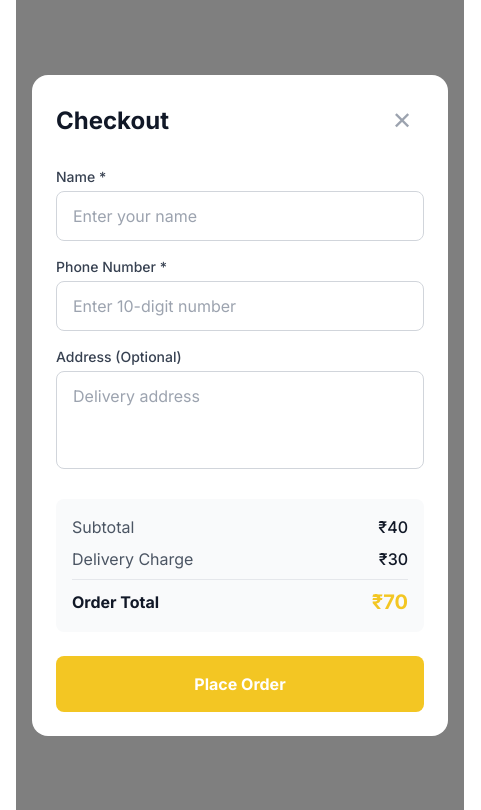
CheckoutForm Component › disables submit button when submitting
The image size is (481, 810).
In the field with placeholder "Enter your name": [240, 216] box [56,190,424,240], type "John Doe"
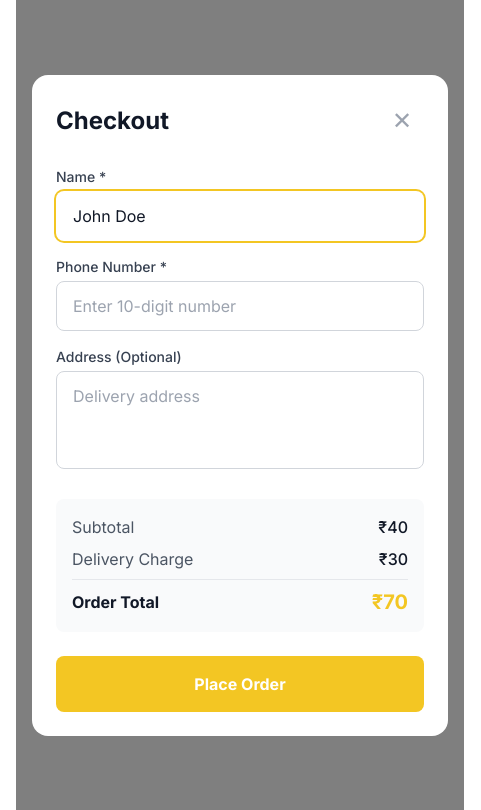
In the field with placeholder "Enter 10-digit number": [240, 306] box [56,280,424,330], type "9876543210"
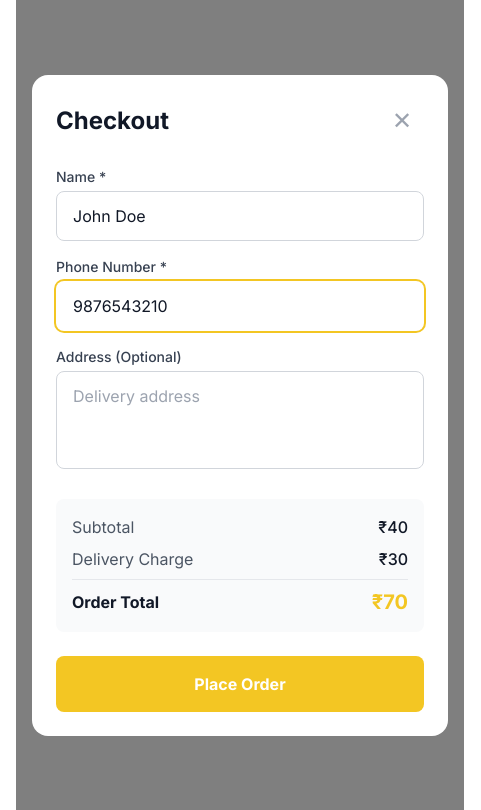
Click the button "Place Order": [240, 684] box [56,656,424,712]
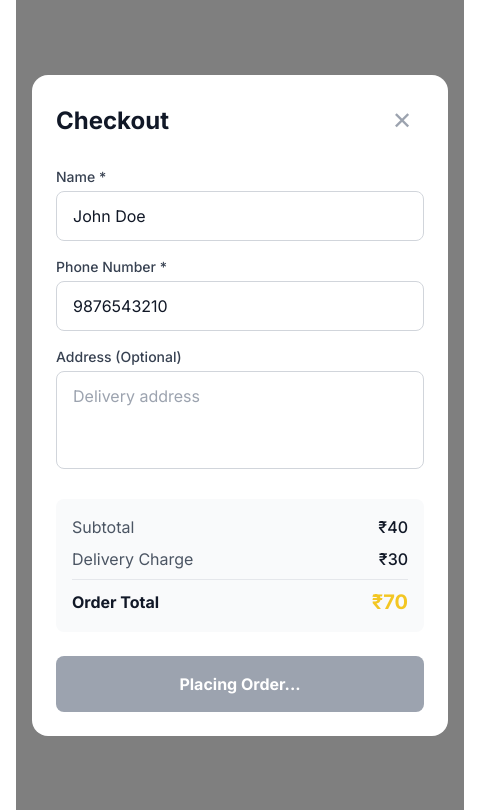
Expected: the button "Placing Order..." is disabled, [56,656,424,712]
